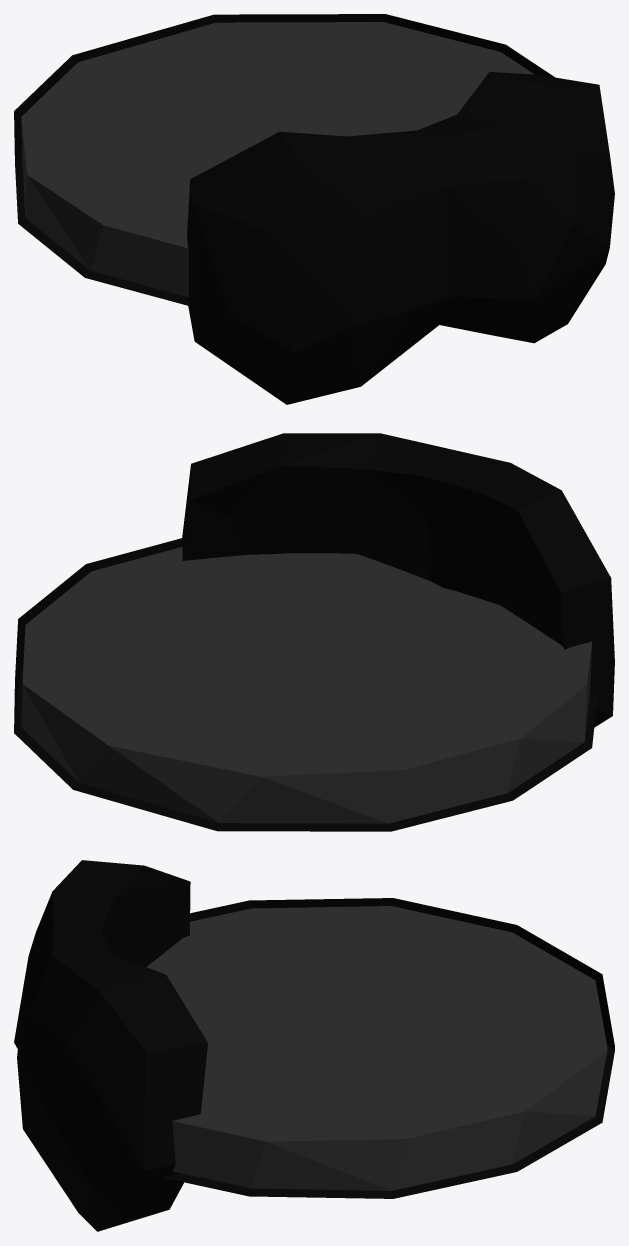
File: 睡眠眼罩.fbx
The picture shows the model from 3 angles, top to bottom: view 1: azimuth 30°, elevation 25°; view 2: azimuth 150°, elevation 25°; view 3: azimuth 270°, elevation 25°; orthographic projection. The views are drawn at different scales.
Parts seen in each view (by area): view 1: 睡眠眼罩; view 2: 睡眠眼罩; view 3: 睡眠眼罩.
Part boxes in pixels (x1=…): 睡眠眼罩: x1=14, y1=14, x2=614, y2=404; 睡眠眼罩: x1=14, y1=433, x2=614, y2=831; 睡眠眼罩: x1=14, y1=860, x2=614, y2=1231.
Bounding box in the file's own units: 0.5254 × 0.2484 × 0.5517.
